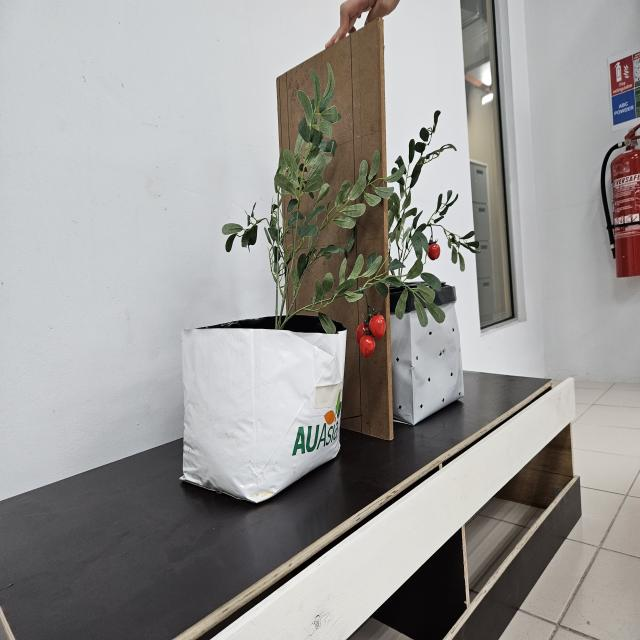Obstacle: (274, 18, 394, 441)
Soilbag: (179, 322, 347, 505), (391, 305, 464, 428)
Tomato: (356, 314, 386, 358), (427, 238, 440, 261)
plant: (221, 65, 406, 358), (385, 110, 469, 328)
